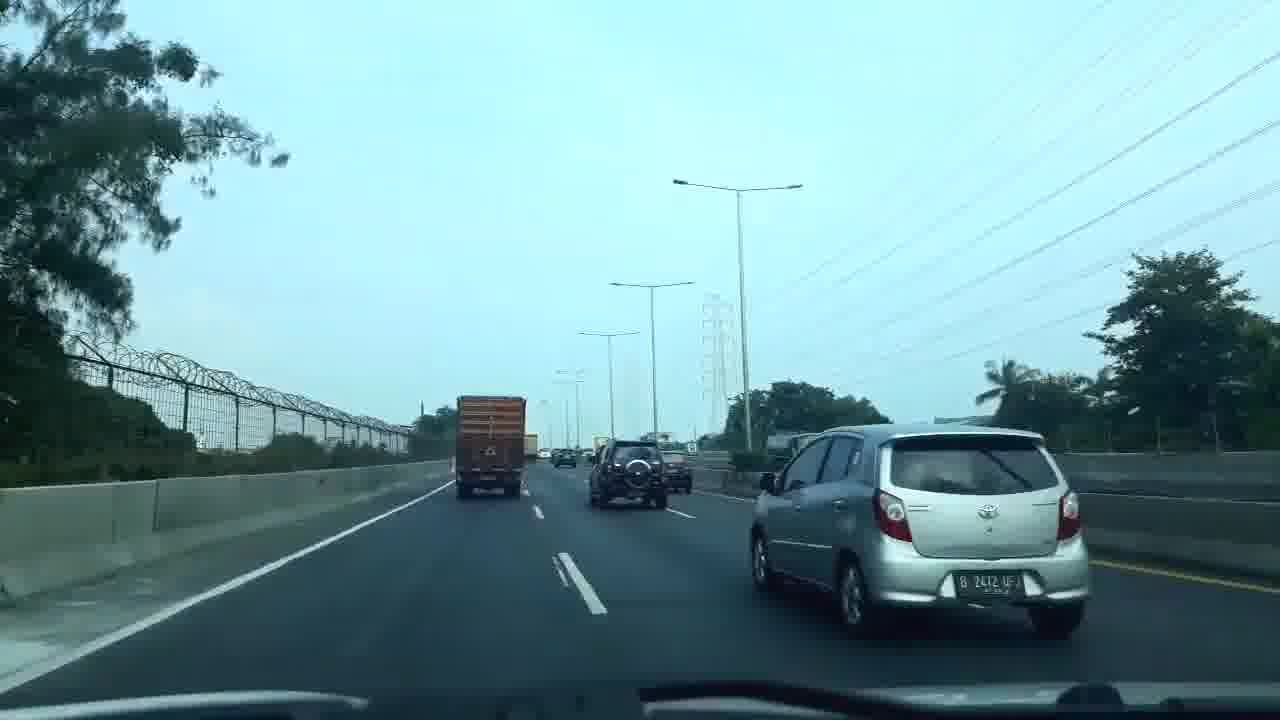plate_positive: (954, 570, 1026, 598)
